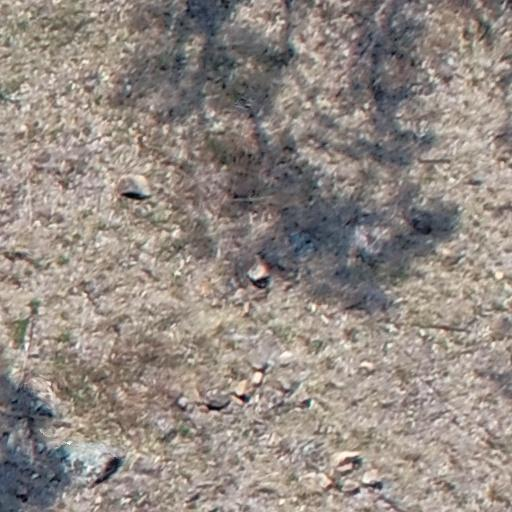stone: (117, 175, 151, 198), (299, 471, 331, 495), (247, 260, 271, 288), (336, 453, 362, 474), (235, 380, 256, 404), (206, 390, 231, 410), (362, 469, 380, 487), (343, 478, 359, 494), (251, 373, 264, 388), (251, 362, 271, 371), (177, 396, 189, 408)
